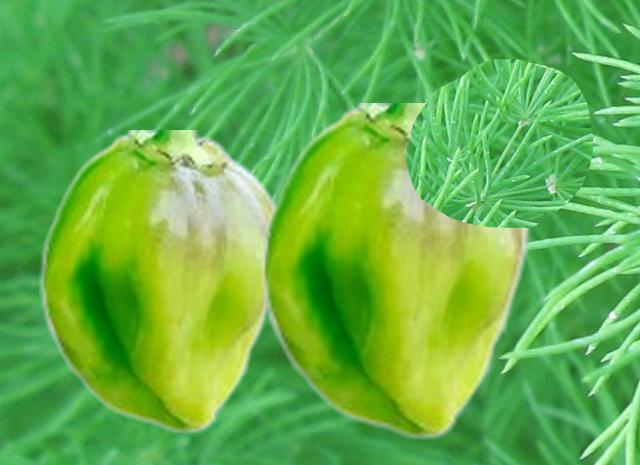green_chili: (260, 103, 531, 440), (39, 130, 276, 434)
